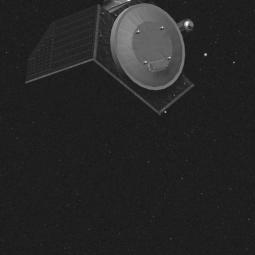cheops: (29, 0, 199, 117)
